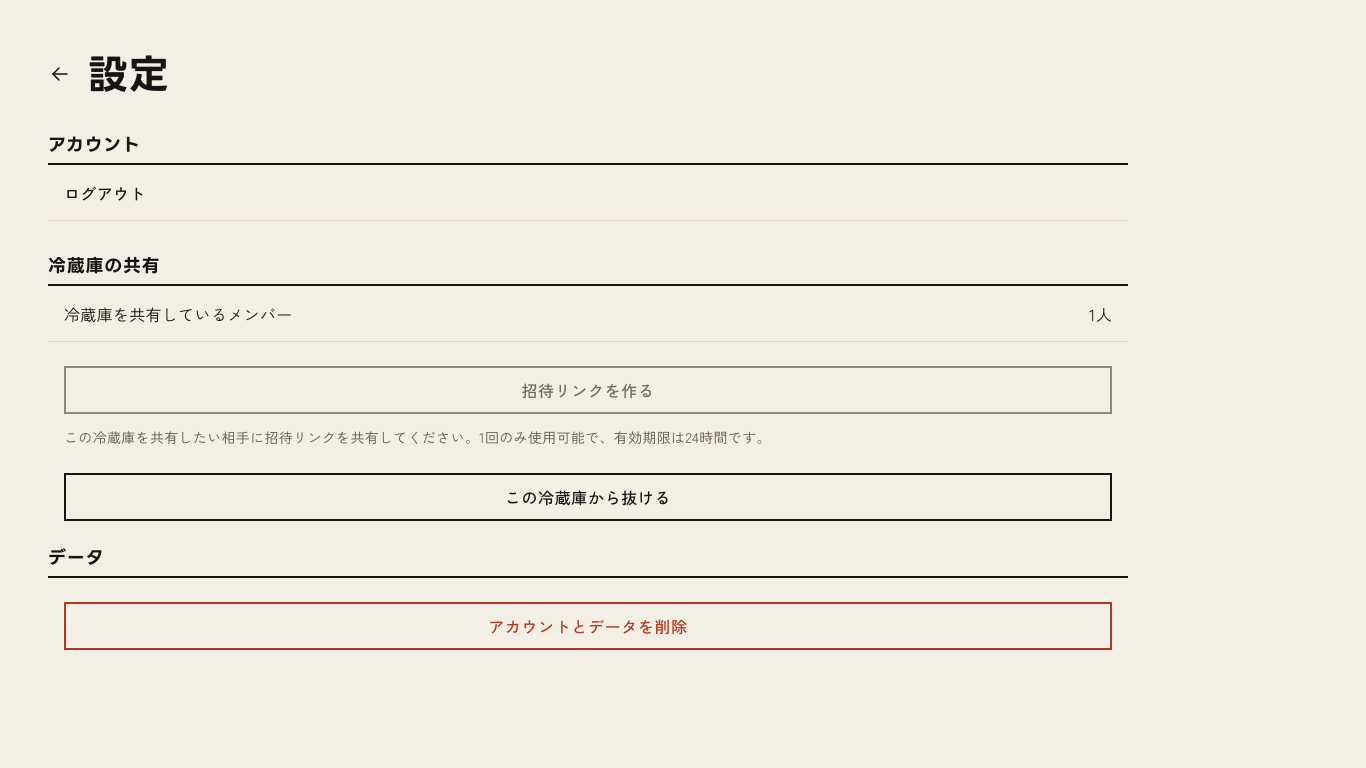
it: 設定画面 SettingsScreen の接続が切れている間の共有の操作 › 接続が切れている間は、抜けるの確認の「抜ける」が押せない
The image size is (1366, 768).
Click the button "この冷蔵庫から抜ける" at (588, 497), box [64,473,1112,521]
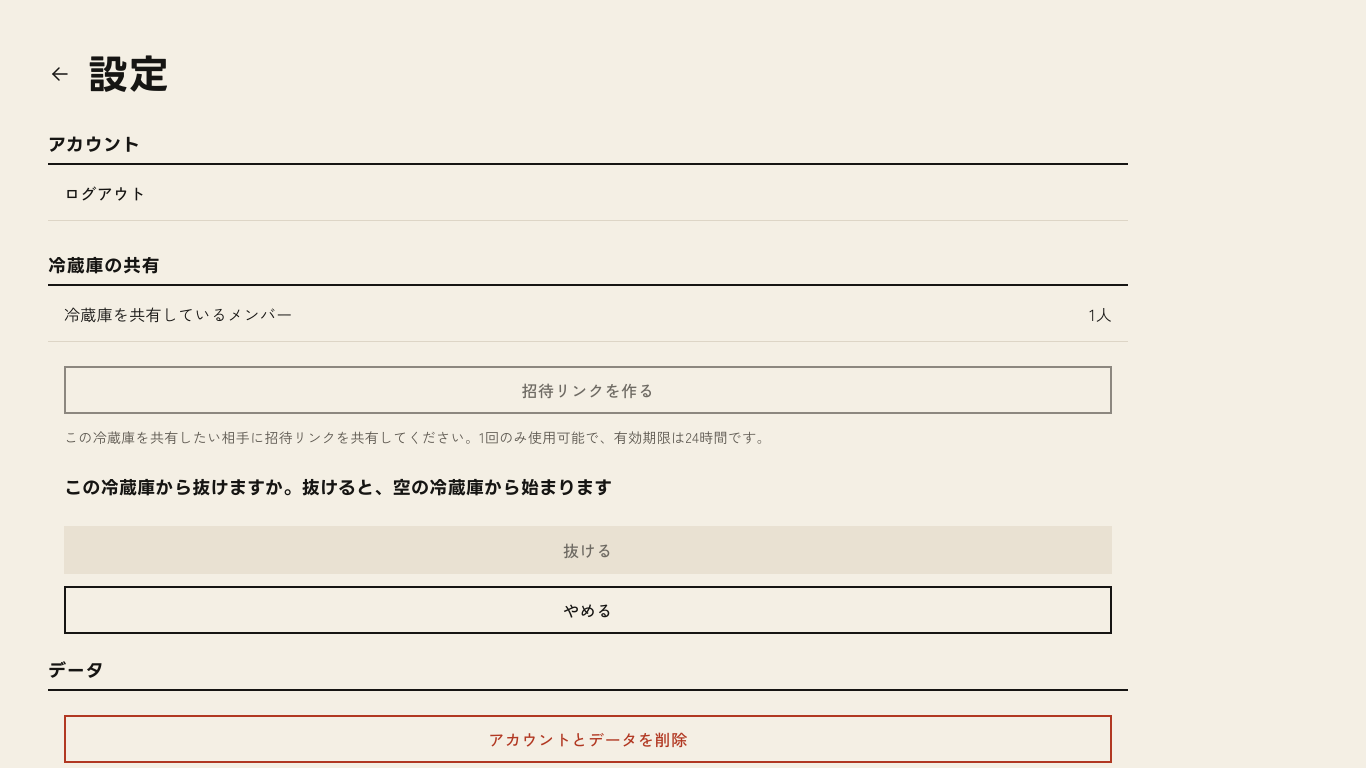
Result: the button "抜ける" is disabled at [64,526,1112,574]
